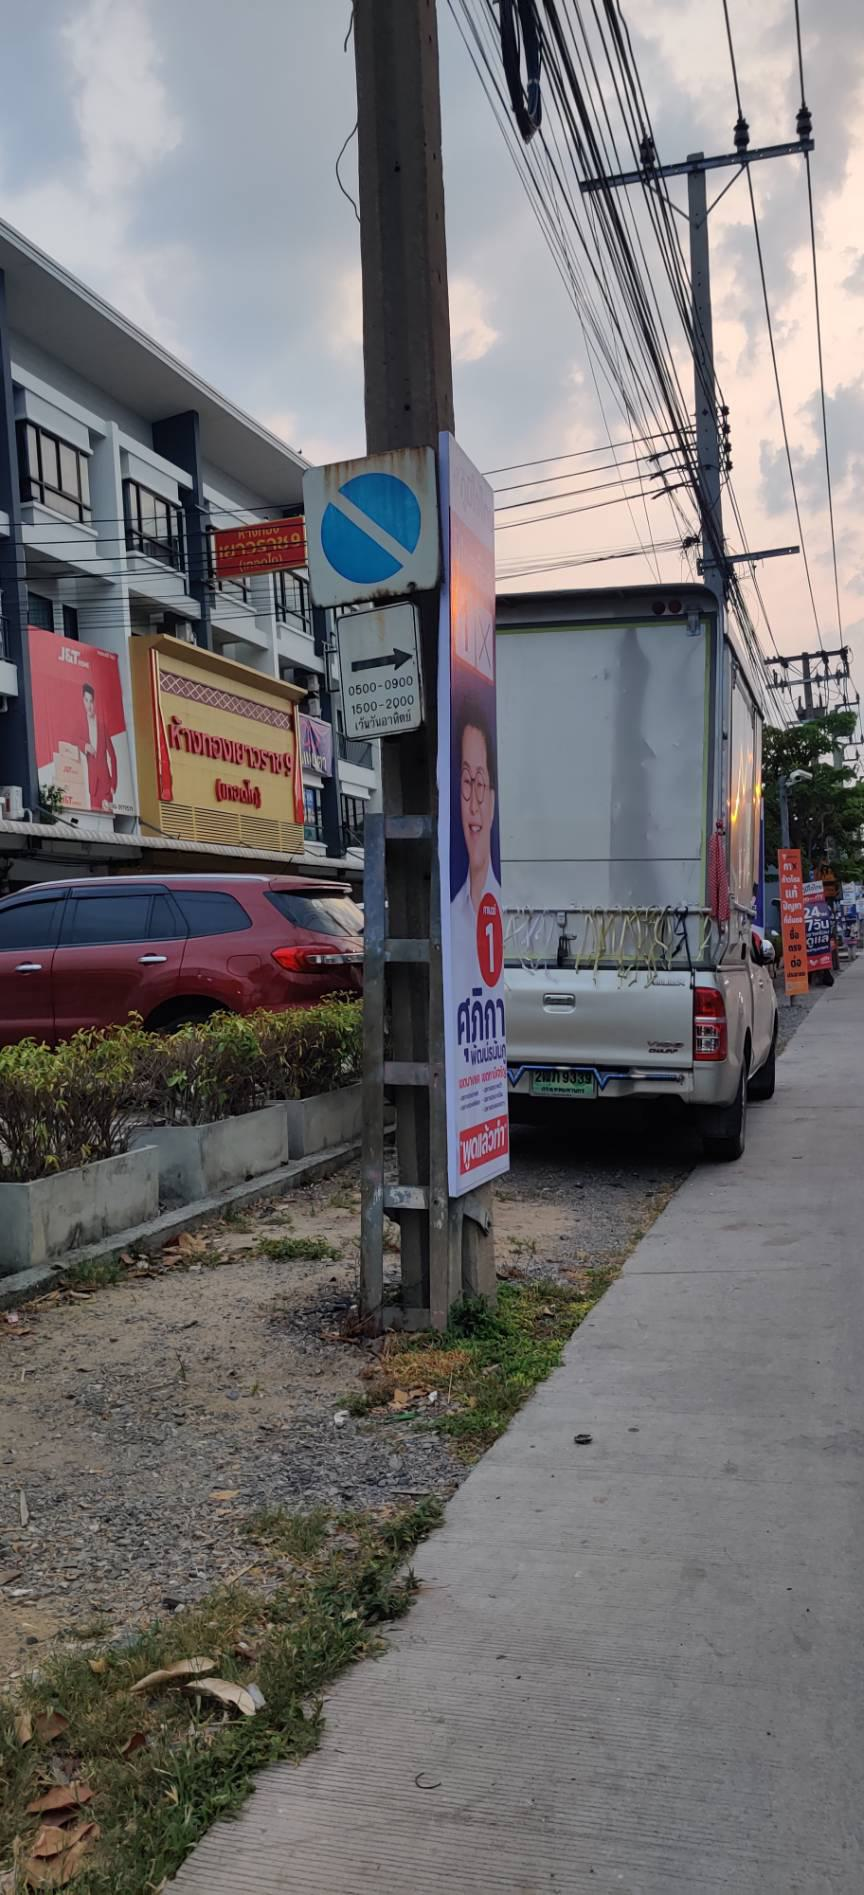Banner: (441, 457, 521, 1173)
